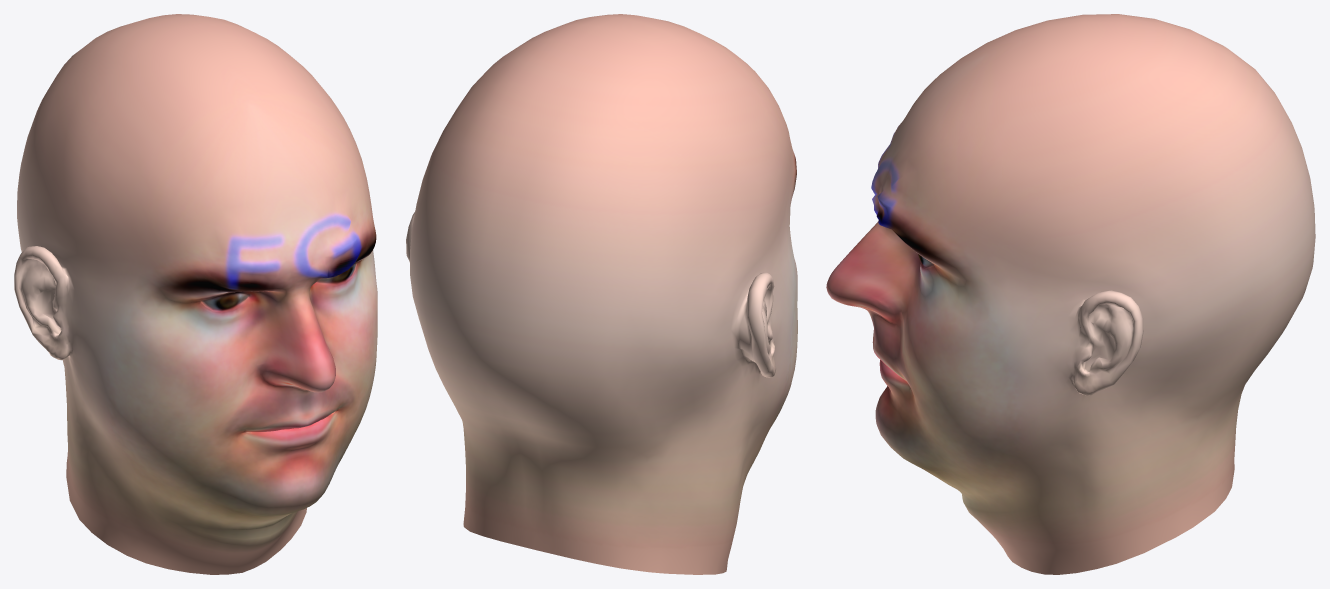
Rendered from avg_anyrace_male_15.obj.
3 renders of one model, left to right at view 1: azimuth 30°, elevation 25°; view 2: azimuth 150°, elevation 25°; view 3: azimuth 270°, elevation 25°, orthographic. The views are drawn at different scales.
Visible parts, largest first — view 1: HeadHires; view 2: HeadHires; view 3: HeadHires.
Boxes of the visible parts, x1=… form: HeadHires: x1=14, y1=14, x2=377, y2=574; HeadHires: x1=406, y1=14, x2=797, y2=574; HeadHires: x1=826, y1=14, x2=1315, y2=574.
Bounding box in the file's own units: 194 × 282 × 240.
Materials: 3 (3 with a texture image).
